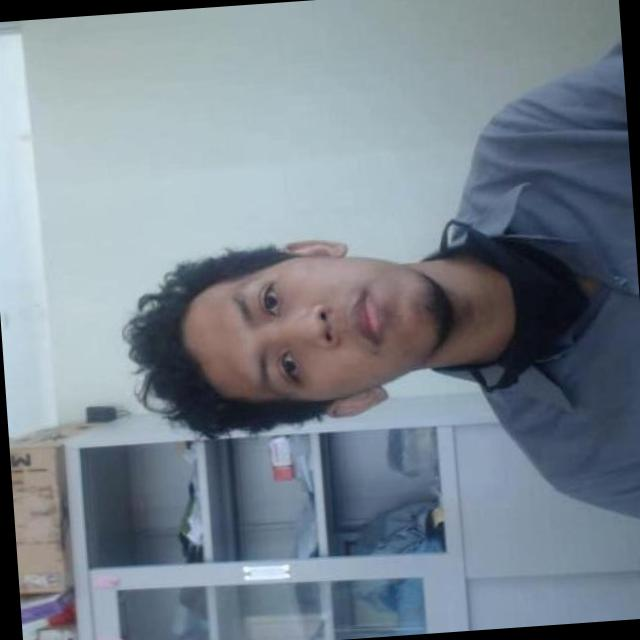bareface: (198, 252, 442, 400)
